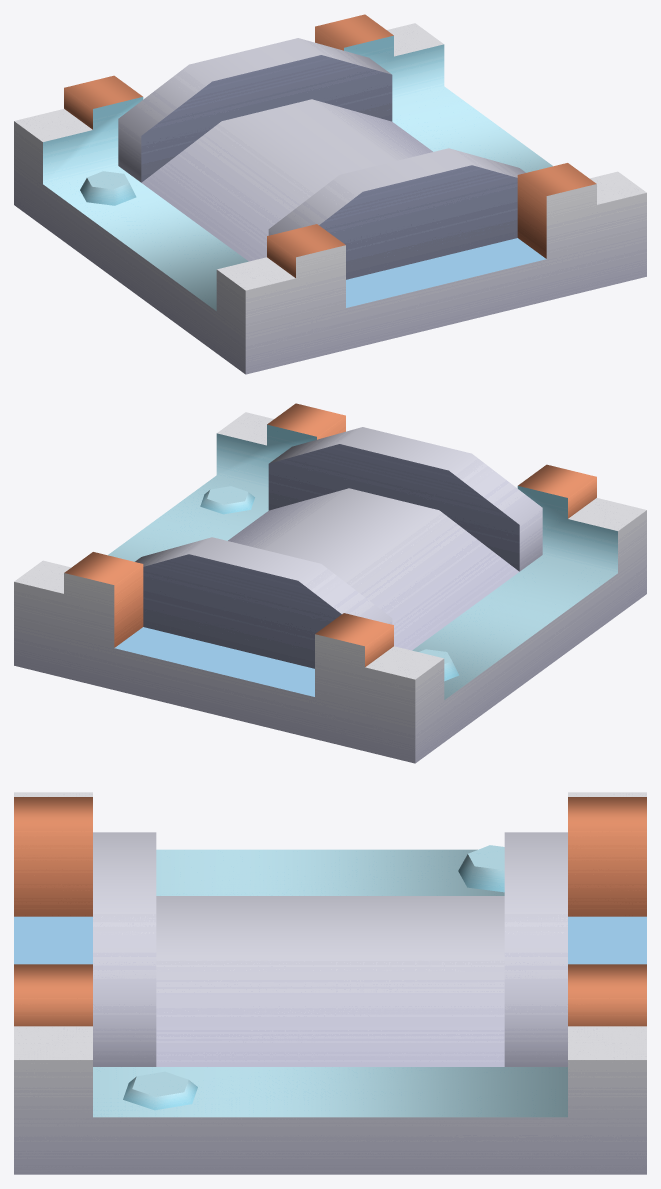
File: snow-tile-river-bridge.glb
3 renders of one model, top to bottom at view 1: azimuth 30°, elevation 25°; view 2: azimuth 150°, elevation 25°; view 3: azimuth 270°, elevation 25°, orthographic. The views are drawn at different scales.
Visible parts, largest first — view 1: snow-tile-river-bridge; view 2: snow-tile-river-bridge; view 3: snow-tile-river-bridge.
Boxes of the visible parts, x1,y1,x2,y2 form: snow-tile-river-bridge: (14,14,646,374); snow-tile-river-bridge: (14,403,646,763); snow-tile-river-bridge: (14,792,646,1174).
Bounding box in the file's own units: 3 × 0.9 × 3.
1 material, 1 textured.
